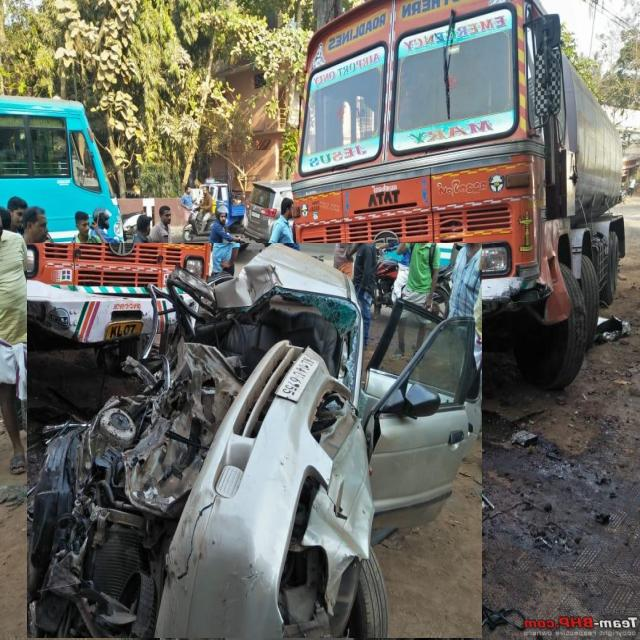accident: (27, 244, 481, 638)
bus: (0, 97, 122, 262)
motorcycle: (92, 207, 135, 314)
truck: (291, 0, 625, 388)
